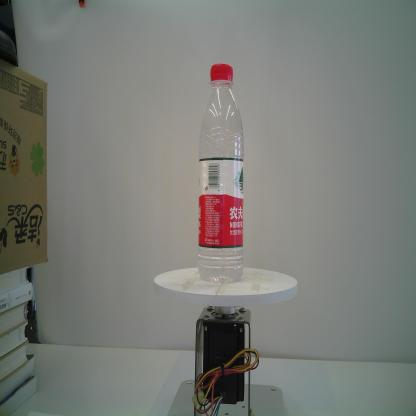Drink: (196, 63, 244, 283)
